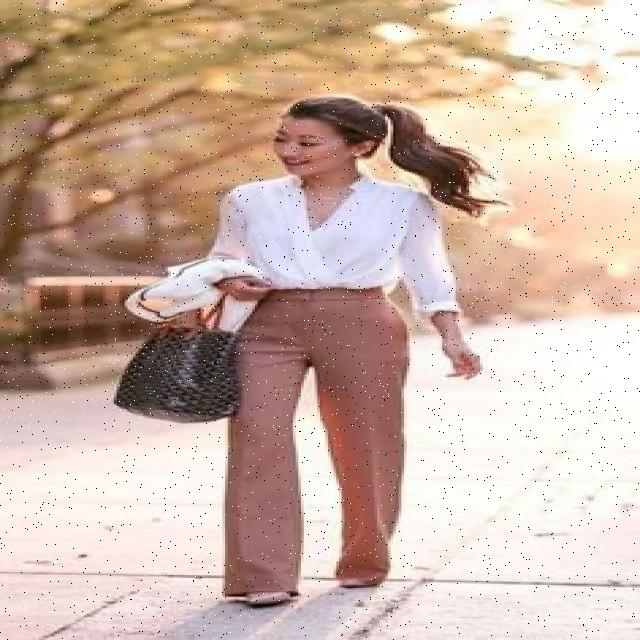handbag: (111, 289, 242, 423)
